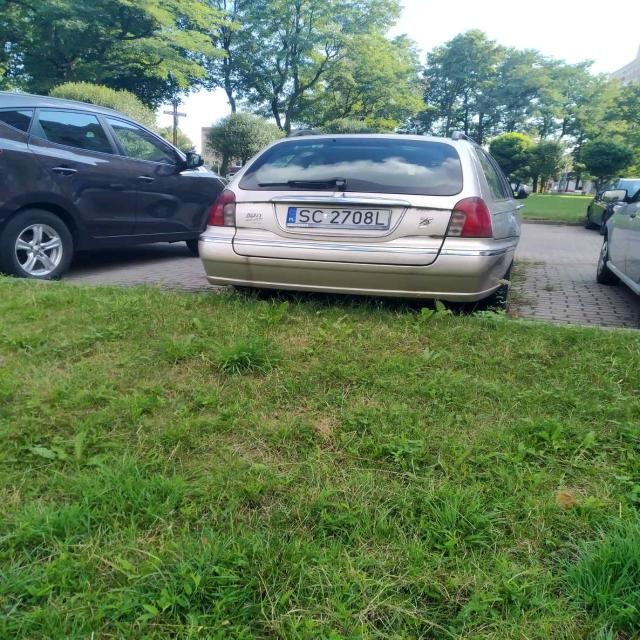pl_license_plate: (287, 207, 389, 225)
